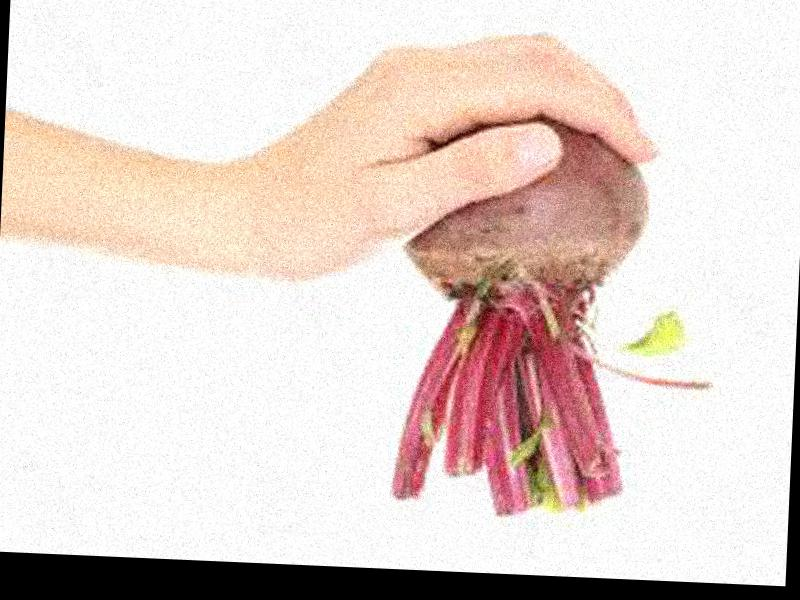Beet: (393, 109, 725, 524)
